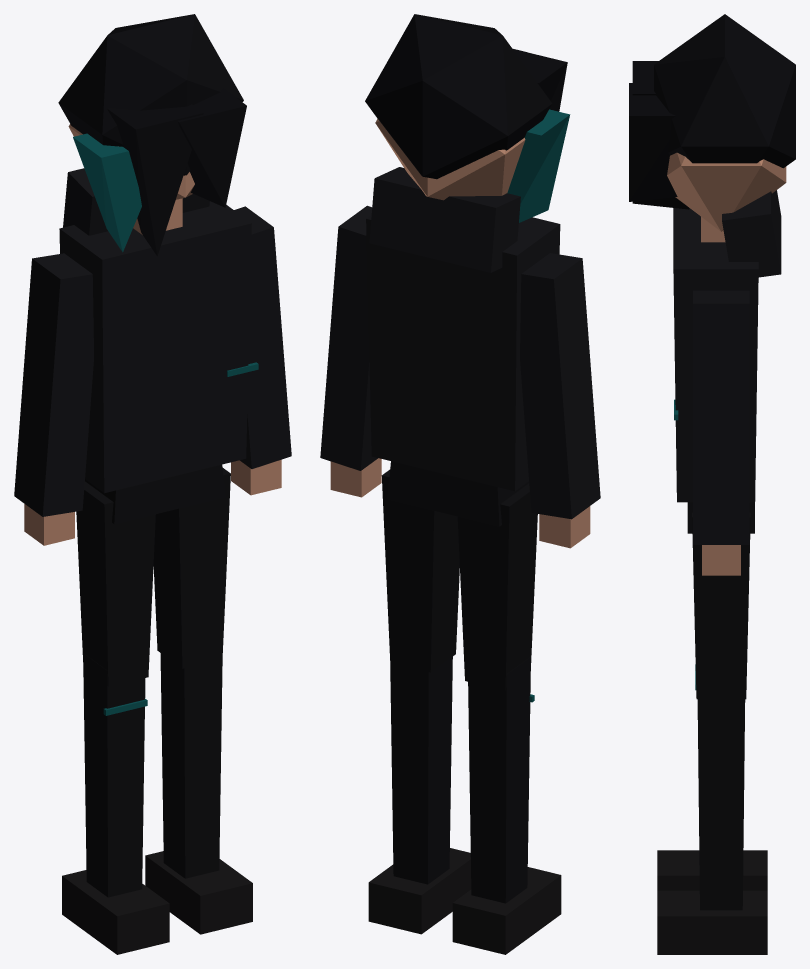
File: phase1-teal-blockout.obj
3 renders of one model, left to right at view 1: azimuth 30°, elevation 25°; view 2: azimuth 150°, elevation 25°; view 3: azimuth 270°, elevation 25°, orthographic.
Visible parts, largest first — view 1: hoodie, left_arm, hair_cap, left_lower_leg, right_lower_leg, left_upper_leg, right_upper_leg, right_arm, fringe_left, left_shoe, right_shoe, fringe_center (+5 smaller); view 2: hoodie, hair_cap, left_arm, left_lower_leg, right_lower_leg, left_upper_leg, right_upper_leg, hood, right_arm, left_shoe, right_shoe, hips (+5 smaller); view 3: hair_cap, right_arm, right_lower_leg, hoodie, right_upper_leg, right_shoe, head, fringe_center, hood, left_shoe, right_hand, fringe_left (+1 smaller).
Part boxes in pixels (x1=…): hoodie: x1=59, y1=201, x2=251, y2=493; left_arm: x1=14, y1=253, x2=93, y2=516; hair_cap: x1=58, y1=14, x2=243, y2=175; left_lower_leg: x1=83, y1=653, x2=145, y2=897; right_lower_leg: x1=160, y1=653, x2=222, y2=878; left_upper_leg: x1=76, y1=481, x2=155, y2=686; right_upper_leg: x1=153, y1=468, x2=230, y2=668; right_arm: x1=234, y1=206, x2=291, y2=468; fringe_left: x1=107, y1=104, x2=203, y2=256; left_shoe: x1=62, y1=870, x2=169, y2=954; right_shoe: x1=145, y1=851, x2=252, y2=934; fringe_center: x1=177, y1=88, x2=246, y2=207; hoodie: x1=366, y1=215, x2=560, y2=491; hair_cap: x1=365, y1=14, x2=552, y2=179; left_arm: x1=520, y1=253, x2=600, y2=519; left_lower_leg: x1=468, y1=657, x2=530, y2=903; right_lower_leg: x1=390, y1=656, x2=452, y2=884; left_upper_leg: x1=457, y1=483, x2=537, y2=690; right_upper_leg: x1=381, y1=469, x2=459, y2=672; hood: x1=369, y1=167, x2=520, y2=272; right_arm: x1=320, y1=205, x2=377, y2=470; left_shoe: x1=452, y1=867, x2=561, y2=954; right_shoe: x1=368, y1=848, x2=471, y2=934; hips: x1=387, y1=461, x2=529, y2=526; hair_cap: x1=654, y1=14, x2=795, y2=168; right_arm: x1=693, y1=290, x2=749, y2=544; right_lower_leg: x1=697, y1=683, x2=745, y2=910; hoodie: x1=673, y1=208, x2=758, y2=502; right_upper_leg: x1=692, y1=512, x2=750, y2=699; right_shoe: x1=657, y1=890, x2=767, y2=954; head: x1=667, y1=152, x2=786, y2=231; fringe_center: x1=629, y1=83, x2=677, y2=201; hood: x1=722, y1=190, x2=781, y2=277; left_shoe: x1=657, y1=850, x2=767, y2=890; right_hand: x1=702, y1=545, x2=740, y2=575; fringe_left: x1=632, y1=61, x2=689, y2=209.
Bounding box in the file's own units: 1.62 × 5.51 × 0.9398.
